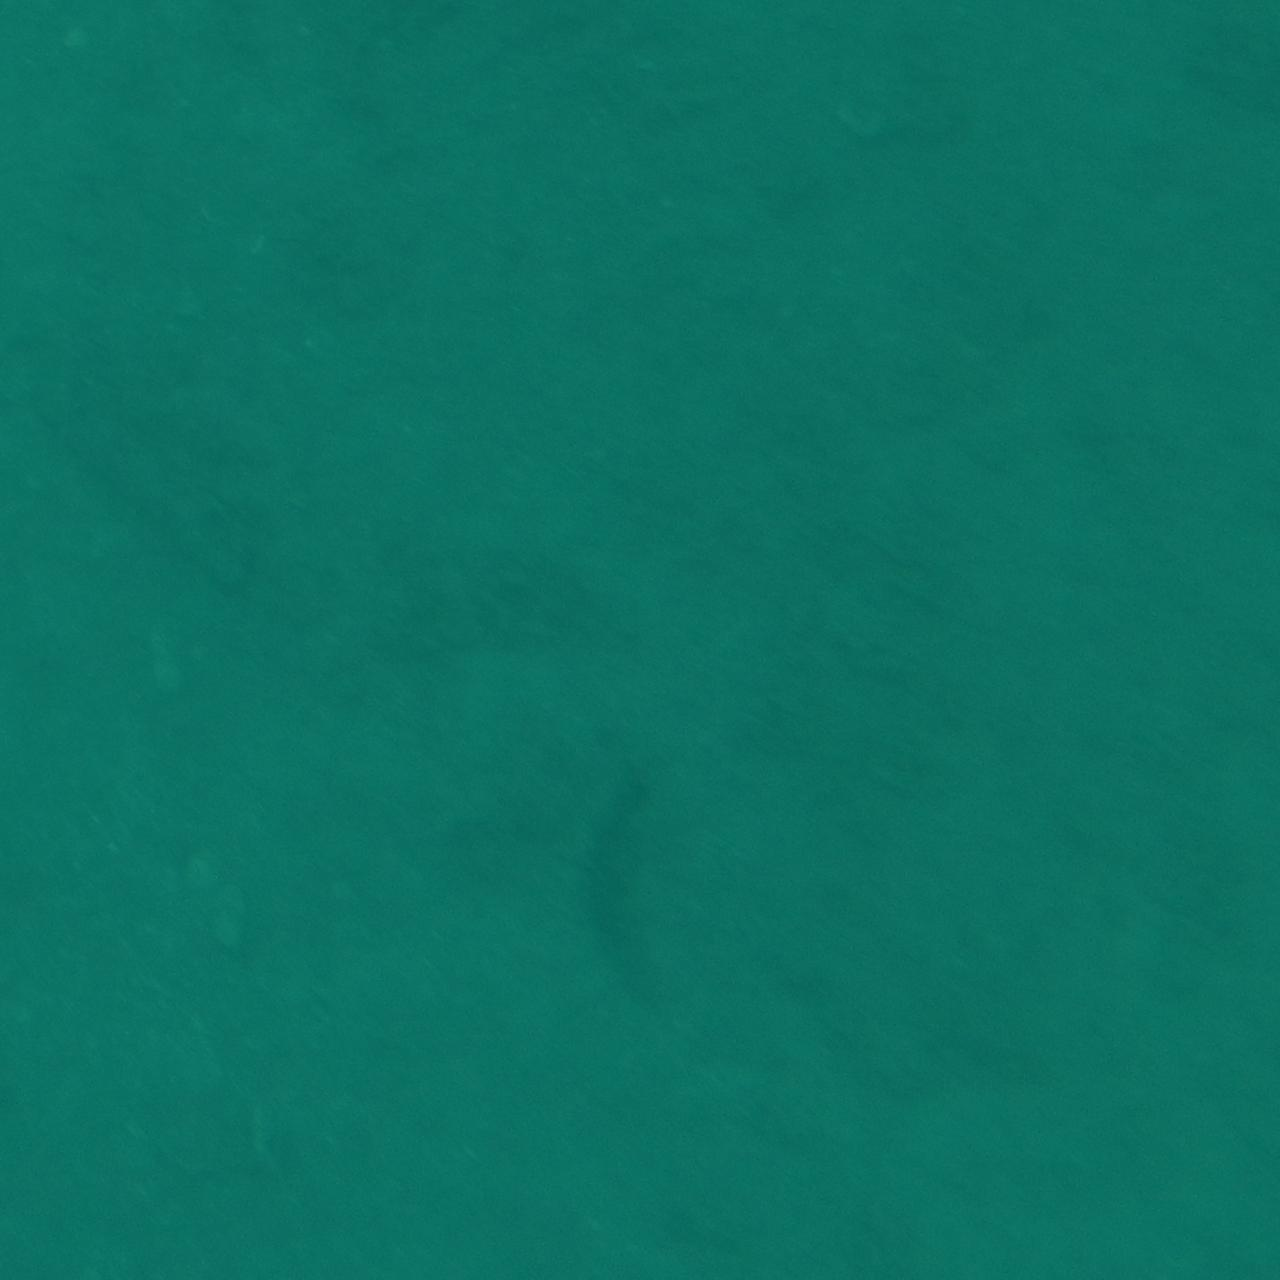Holothuria tubulosa: (584, 755, 696, 1050)
